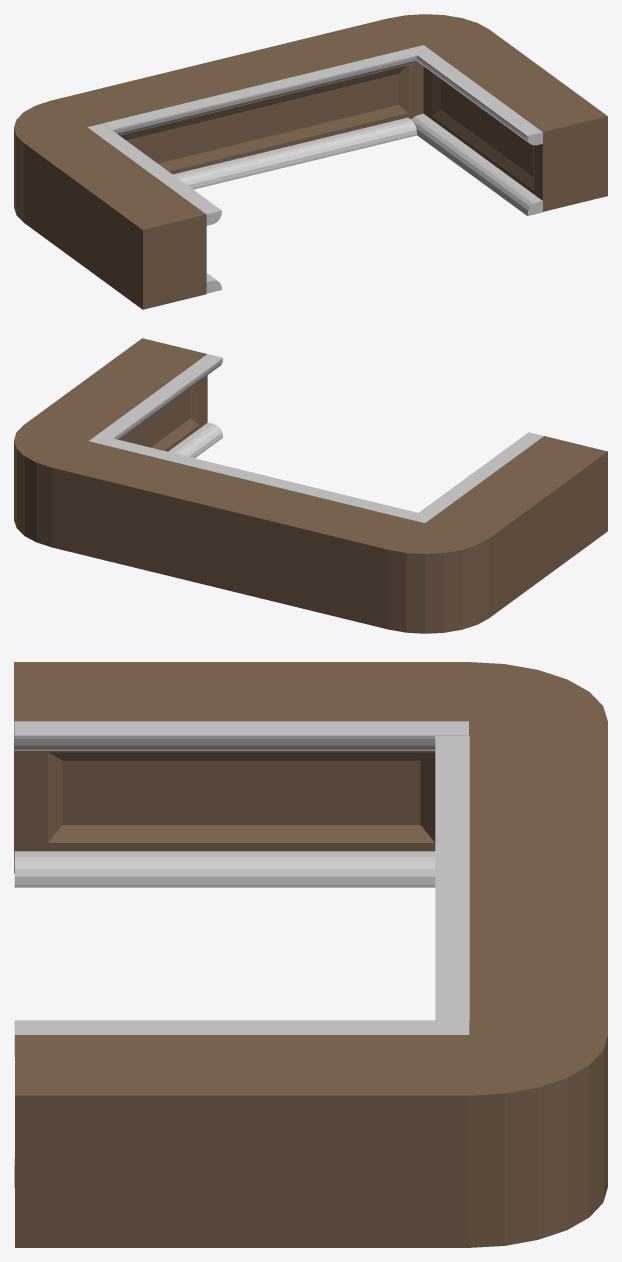
The model's file is Counter.fbx.
3 renders of one model, top to bottom at view 1: azimuth 30°, elevation 25°; view 2: azimuth 150°, elevation 25°; view 3: azimuth 270°, elevation 25°, orthographic. The views are drawn at different scales.
Visible parts, largest first — view 1: Cube, Cube.002, Cube.005, Cube.004, Cube.001, Cube.003; view 2: Cube, Cube.002, Cube.001, Cube.003, Cube.004; view 3: Cube, Cube.006, Cube.003, Cube.002, Cube.001.
Boxes of the visible parts, <box> form: Cube: <box>14,14,607,309</box>; Cube.002: <box>103,49,416,135</box>; Cube.005: <box>173,117,416,189</box>; Cube.004: <box>411,113,542,215</box>; Cube.001: <box>408,45,542,145</box>; Cube.003: <box>87,123,221,225</box>; Cube: <box>14,338,607,633</box>; Cube.002: <box>104,438,417,519</box>; Cube.001: <box>89,354,222,444</box>; Cube.003: <box>410,432,543,522</box>; Cube.004: <box>168,422,222,458</box>; Cube: <box>14,662,607,1247</box>; Cube.006: <box>14,851,435,887</box>; Cube.003: <box>14,721,468,750</box>; Cube.002: <box>435,736,469,1020</box>; Cube.001: <box>14,1020,469,1056</box>.
Size of the model in its own units: 1221 by 201 by 707.
